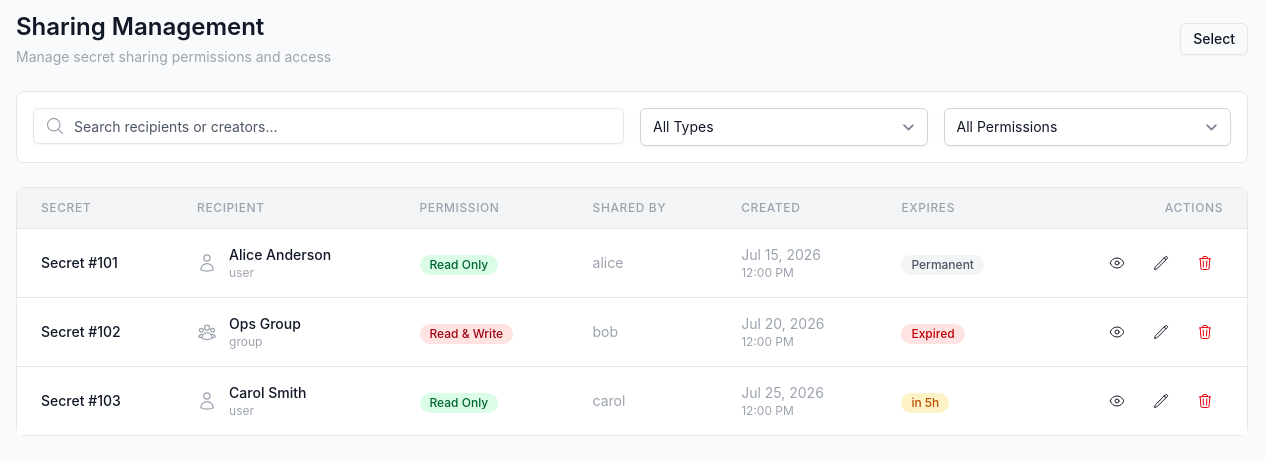
Test case: SharingManagementPage — bulk selection and bulk revoke › selects and clears all rows via the header checkbox
Click the button "Select" at (1214, 39), box [1180,23,1248,55]
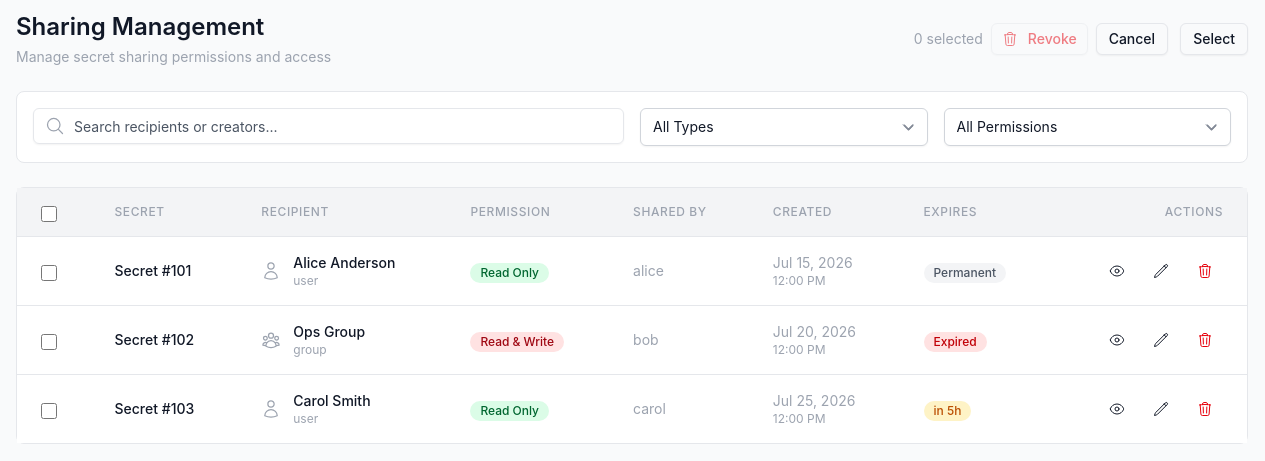
Click the checkbox in the row of "Recipient" at (49, 214), box [41,206,57,222]
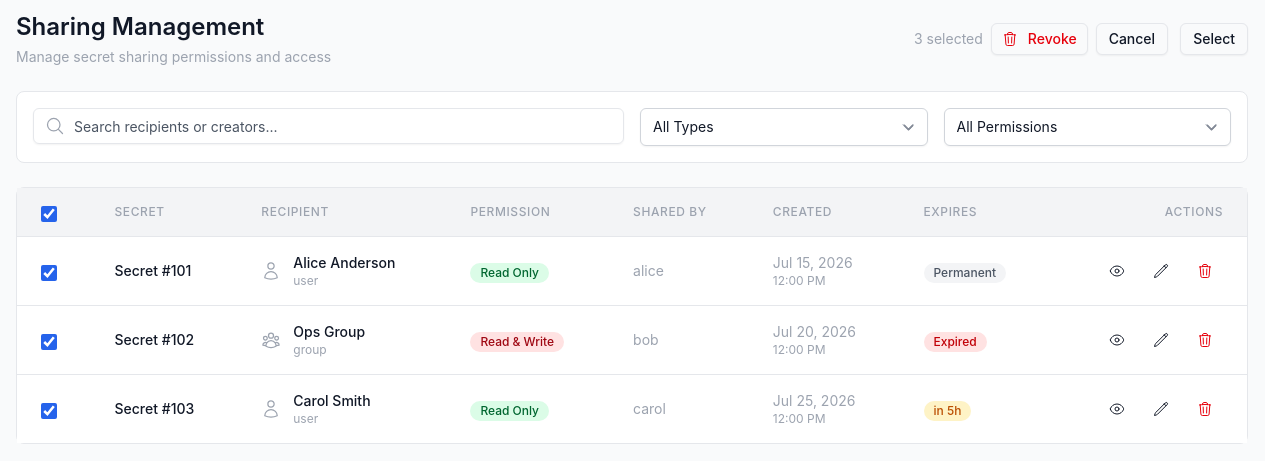
Result: the text "3 selected" is shown at [914,29,983,49]
Click the checkbox in the row of "Recipient" at (49, 214), box [41,206,57,222]
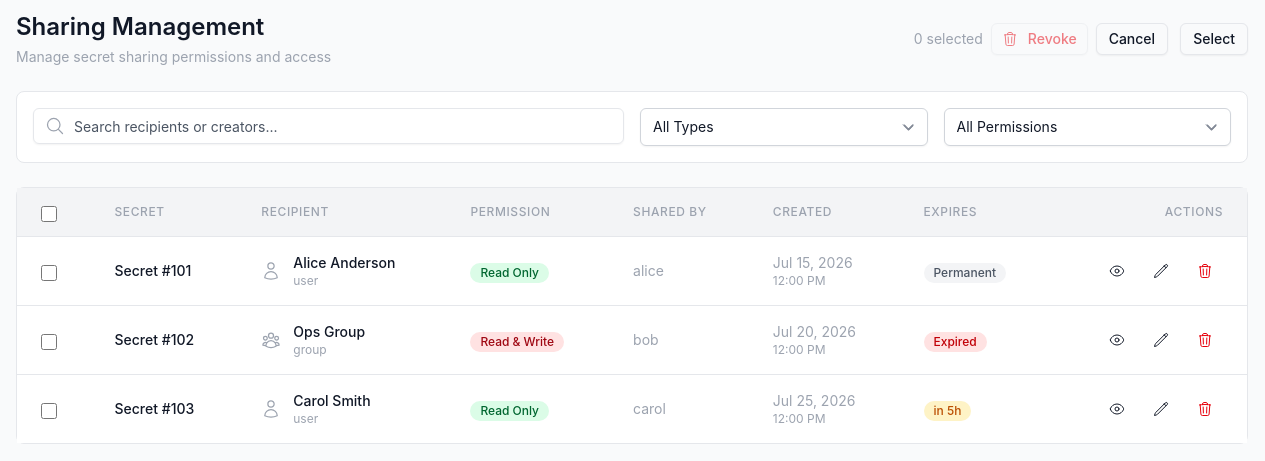
Result: the text "0 selected" is shown at [914,29,983,49]
